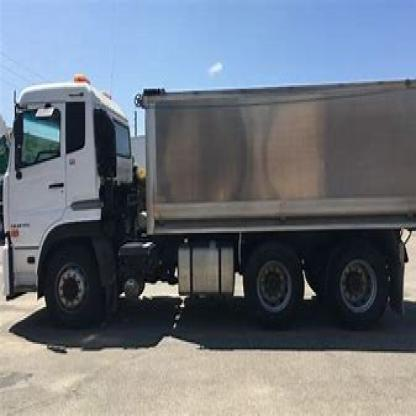dump_truck: (5, 59, 415, 333)
